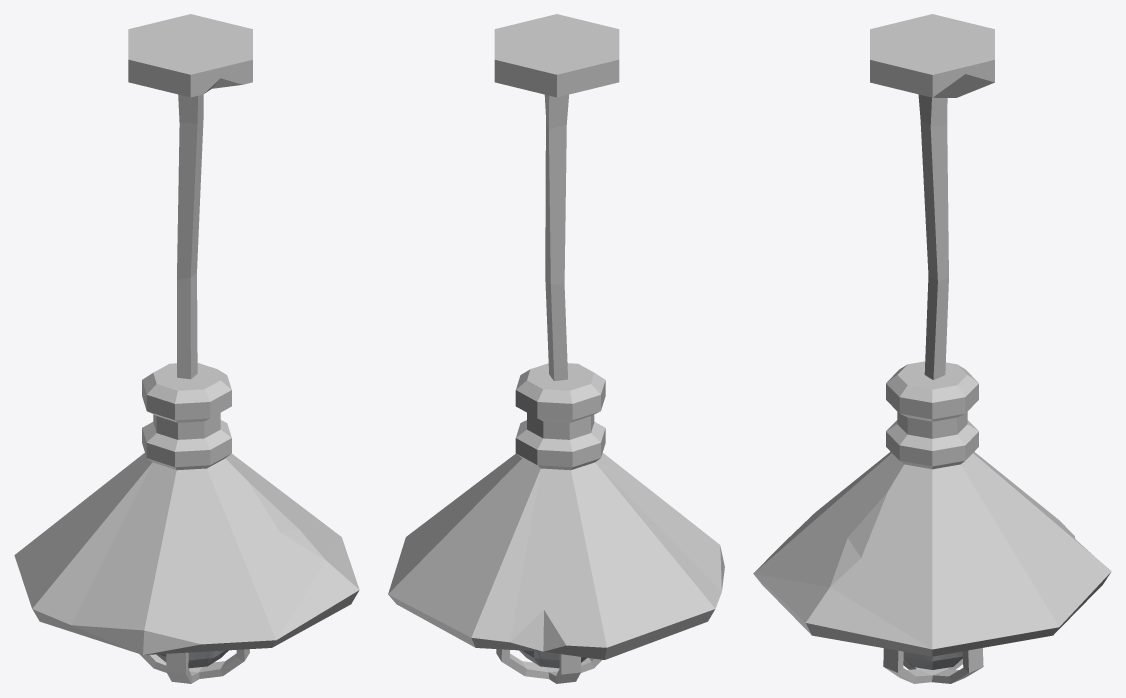
The model's file is SM_Prop_Light_05.fbx.
3 renders of one model, left to right at view 1: azimuth 30°, elevation 25°; view 2: azimuth 150°, elevation 25°; view 3: azimuth 270°, elevation 25°, orthographic.
Visible parts, largest first — view 1: SM_Prop_Light_05; view 2: SM_Prop_Light_05; view 3: SM_Prop_Light_05.
Part boxes in pixels (left/top/right/bottom): SM_Prop_Light_05: left=14, top=14, right=359, bottom=683; SM_Prop_Light_05: left=388, top=14, right=724, bottom=683; SM_Prop_Light_05: left=753, top=14, right=1111, bottom=683.
Size of the model in its own units: 62.93 by 122 by 62.93.
